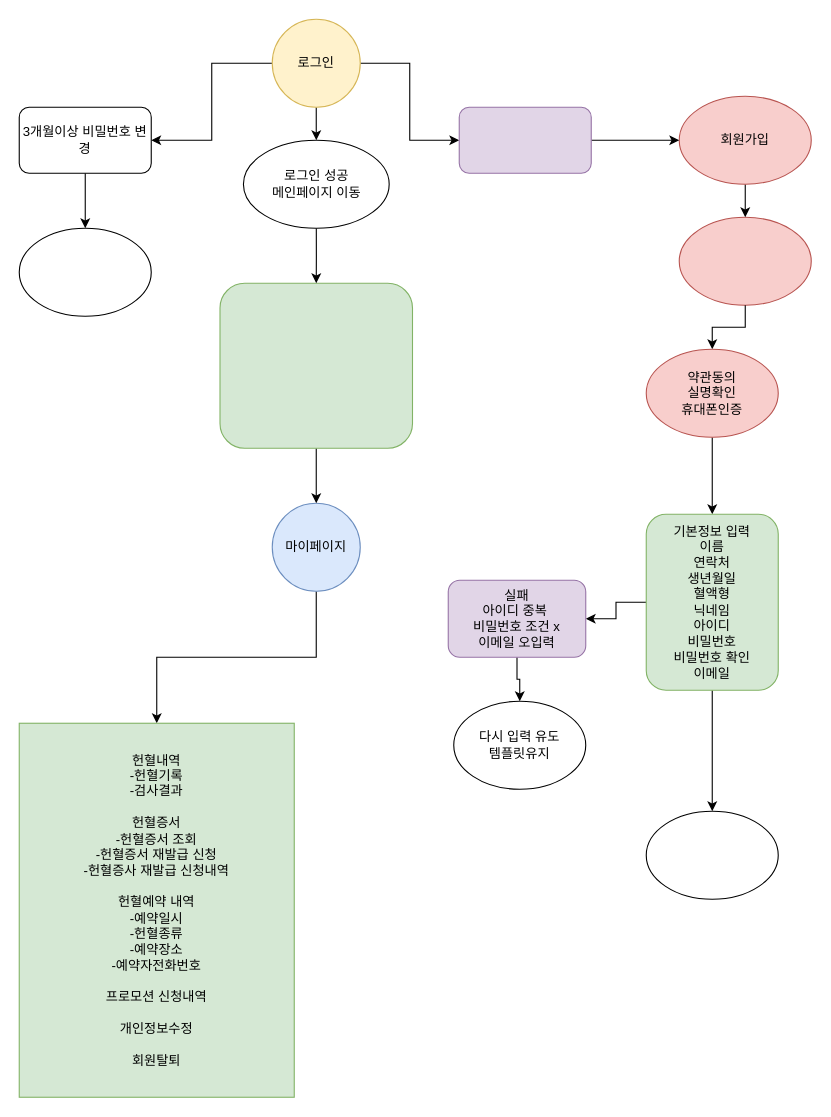
This 831x1117 diagram has some shape labels left out. The shapes that lost their labels are listed below. From the top down, each one's centre as x and y in pixels, then its label:
[524,139]: 로그인 실패 아이디,비밀번호찾기 회원가입
[84,271]: 다음에하기/ 비밀번호변경
[744,260]: 만 14세이상/ 이하
[316,365]: 로그아웃 마이페이지 헌혈의집 찾기 헌혈예약 프로모션 헌혈내역조회 검사결과조회 증명서발급 자주하는 질문 오늘의 혈액보유
[711,854]: 가입완료
